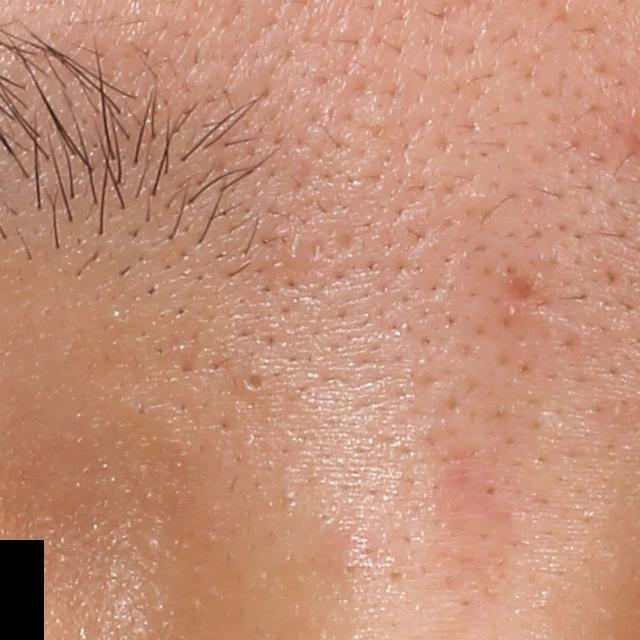comedo: (232, 359, 274, 403)
